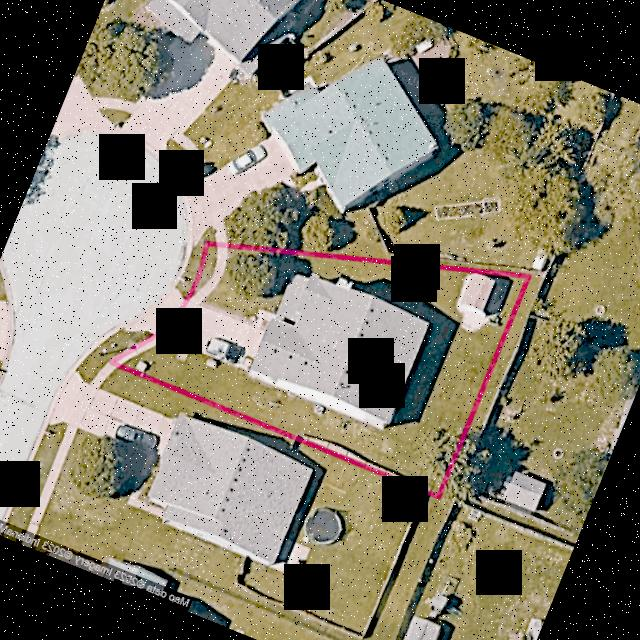Driveway: (164, 301, 275, 372)
Extra Driveway: (124, 288, 182, 331)
Extra Lawn: (472, 277, 541, 427), (91, 328, 150, 359), (176, 245, 201, 296)
House: (247, 271, 429, 428)
Other: (455, 273, 510, 332)
Sidewalk: (191, 249, 227, 303), (117, 330, 165, 361)
